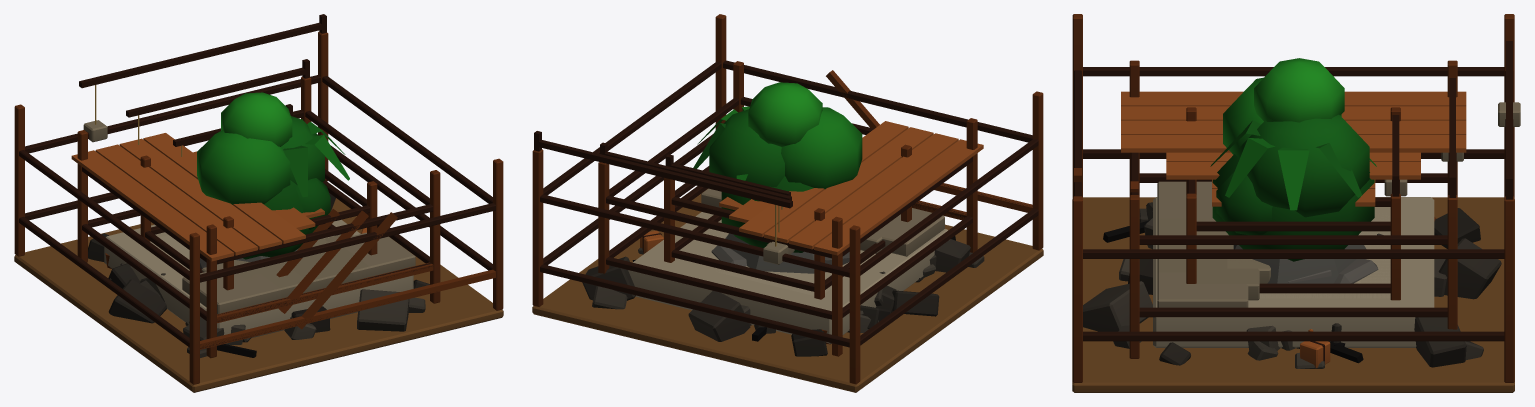
The model's file is props.glb.
The picture shows the model from 3 angles, left to right: view 1: azimuth 30°, elevation 25°; view 2: azimuth 150°, elevation 25°; view 3: azimuth 270°, elevation 25°; orthographic projection. The views are drawn at different scales.
Visible parts, largest first — view 1: scaffold_4_body, scaffold_3_body, ob_tree_body, rubble_4_body, scaffold_2_body, deco_palm_body; view 2: scaffold_4_body, scaffold_3_body, ob_tree_body, rubble_4_body, scaffold_2_body, ob_rock_body, deco_palm_body; view 3: scaffold_4_body, ob_tree_body, scaffold_3_body, rubble_4_body, scaffold_2_body, deco_palm_body, ob_rock_body, rubble_3_body.
Part boxes in pixels (x1,y1,x2,y2): scaffold_4_body: (14,14,503,392); scaffold_3_body: (77,59,440,358); ob_tree_body: (197,92,330,259); rubble_4_body: (88,193,429,357); scaffold_2_body: (140,104,377,290); deco_palm_body: (283,119,349,197); scaffold_4_body: (532,14,1043,392); scaffold_3_body: (598,61,977,356); ob_tree_body: (709,82,862,252); rubble_4_body: (582,236,984,356); scaffold_2_body: (664,144,911,299); ob_rock_body: (711,233,849,273); deco_palm_body: (693,106,749,180); scaffold_4_body: (1072,14,1520,392); ob_tree_body: (1212,58,1374,261); scaffold_3_body: (1129,60,1463,358); rubble_4_body: (1083,202,1501,368); scaffold_2_body: (1186,107,1407,300); deco_palm_body: (1210,120,1376,210); ob_rock_body: (1233,245,1378,283); rubble_3_body: (1147,235,1345,350).
Size of the model in its own units: 3.9 by 2.52 by 3.95.
